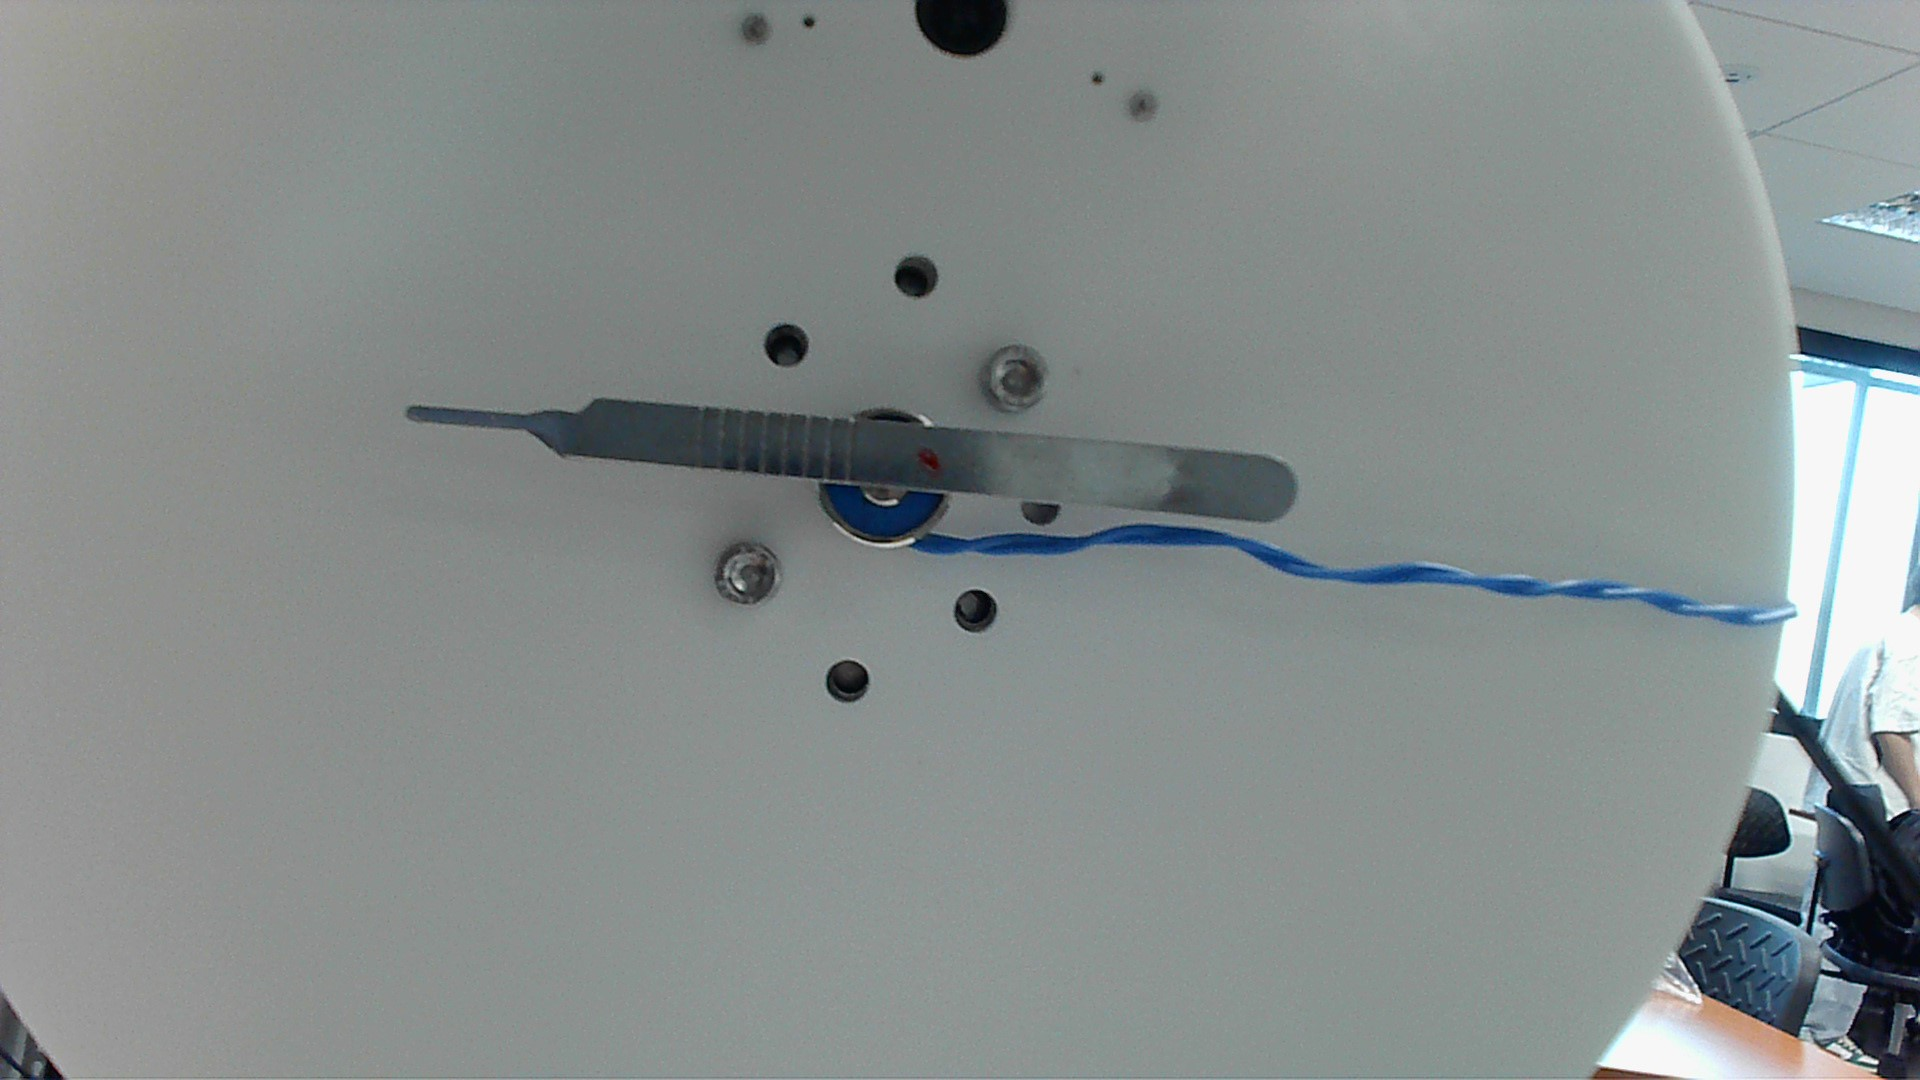Stain: (911, 439, 944, 484)
